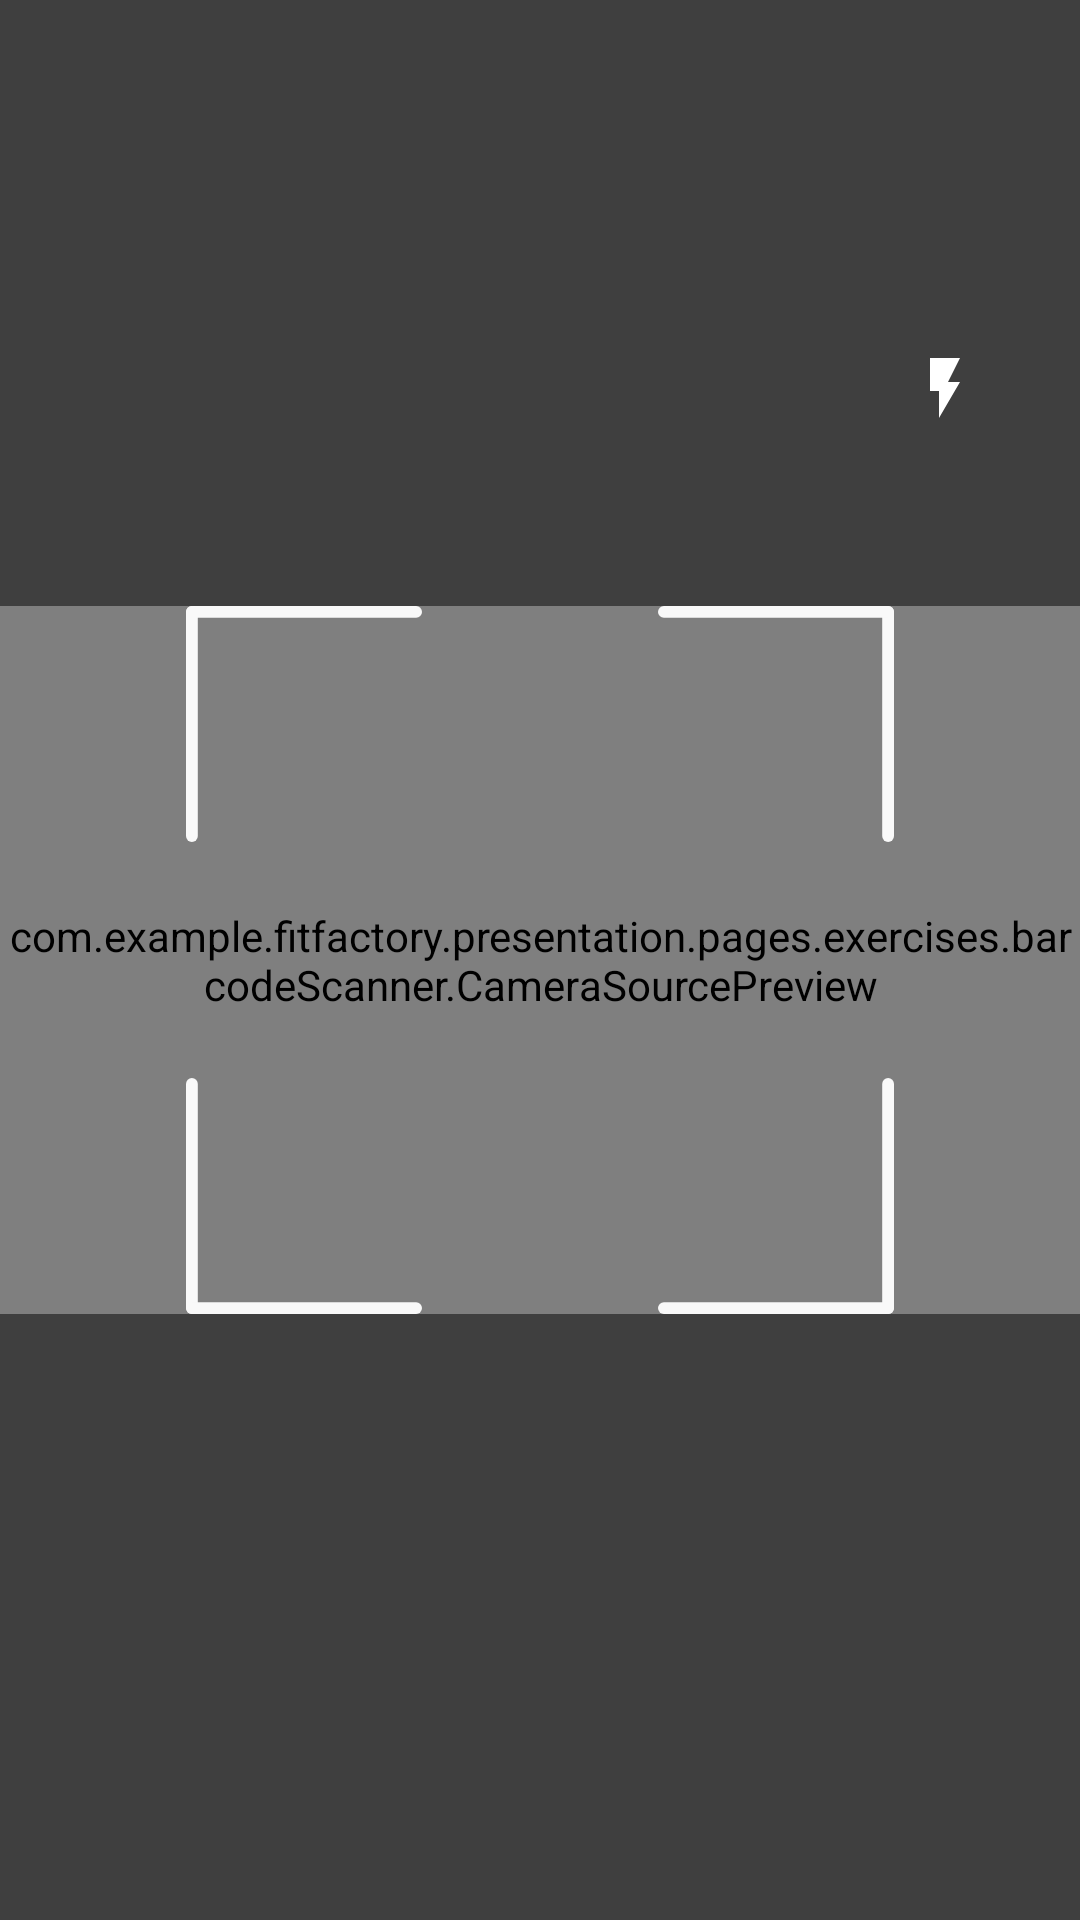

Named icons in this screenshot (1080px×1920px) and their centers, (x,y):
torch off: (945,388)
